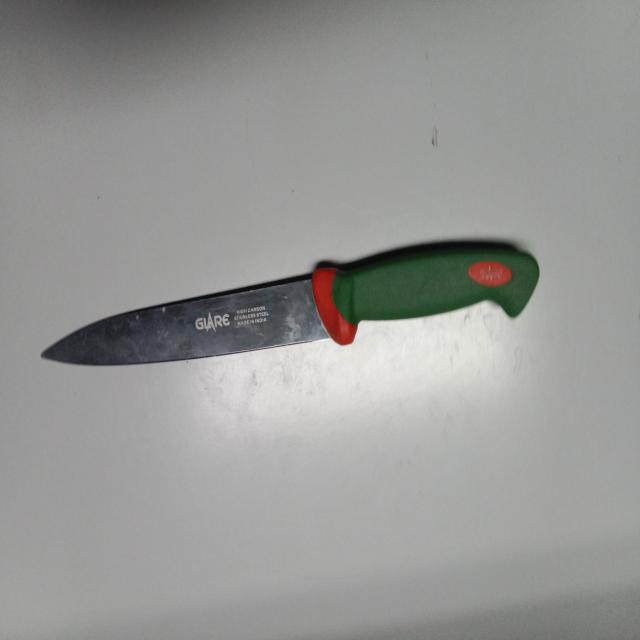Knife: (41, 241, 540, 365)
